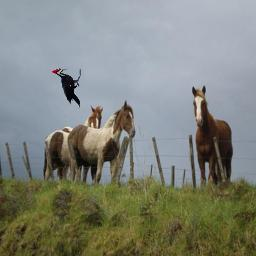Woodpecker: (51, 68, 81, 108)
